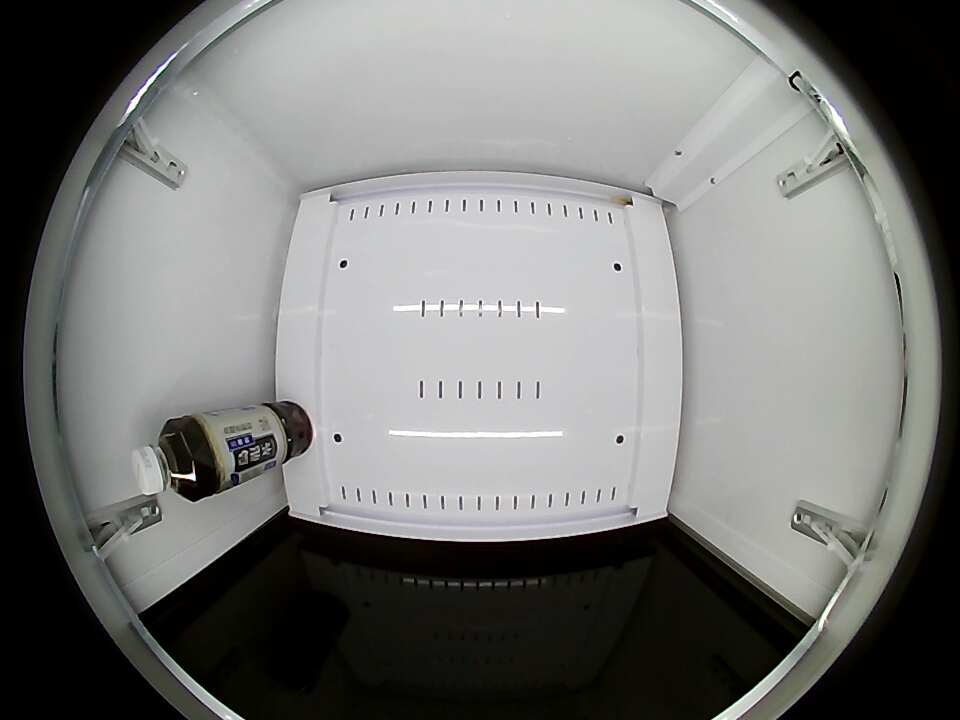wulongcha: (132, 417, 210, 501)
